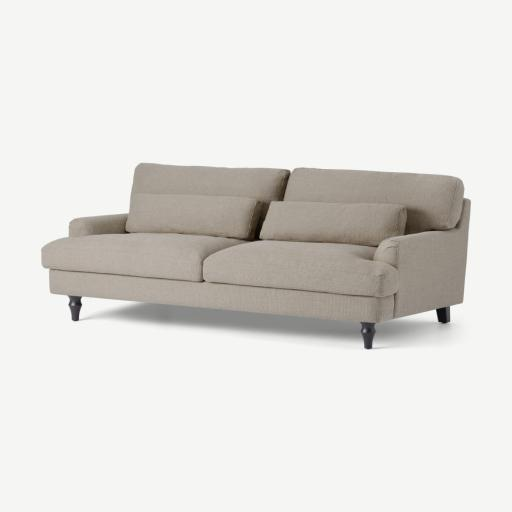back_cushion: (126, 164, 463, 246)
base: (51, 270, 392, 322)
left_arm: (374, 200, 470, 322)
legs: (361, 322, 375, 349), (68, 295, 82, 321), (437, 306, 450, 323)
right_arm: (68, 214, 127, 237)
seat_cushion: (43, 233, 396, 296)
two-seater: (0, 0, 511, 512)
